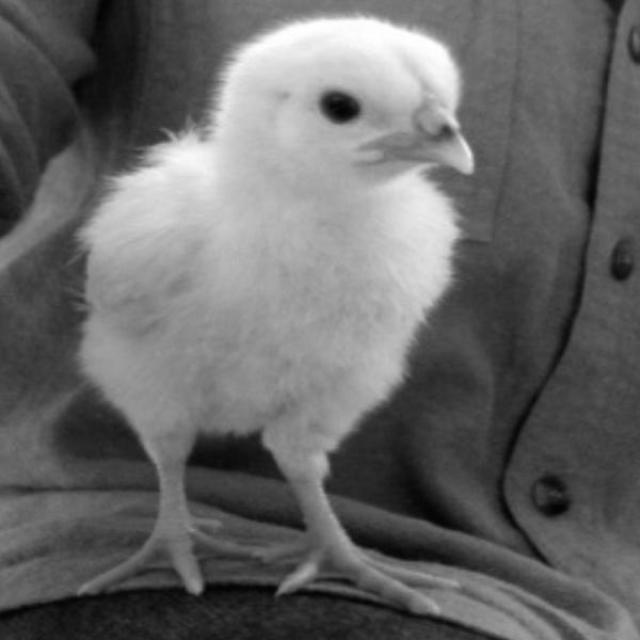poussin: (42, 16, 482, 608)
